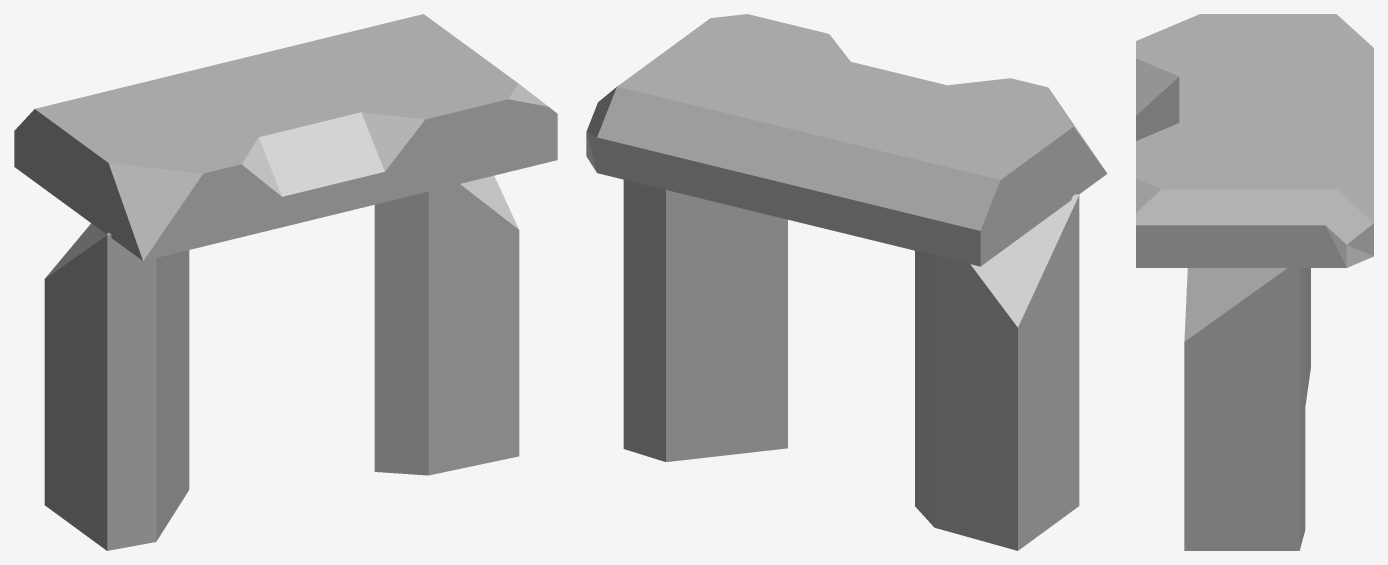
File: stone_1.fbx
The picture shows the model from 3 angles, left to right: view 1: azimuth 30°, elevation 25°; view 2: azimuth 150°, elevation 25°; view 3: azimuth 270°, elevation 25°; orthographic projection. The views are drawn at different scales.
Parts seen in each view (by area): view 1: stone_1; view 2: stone_1; view 3: stone_1.
Boxes of the visible parts, x1,y1,x2,y2 form: stone_1: (14,14,557,550); stone_1: (586,14,1107,550); stone_1: (1136,14,1373,550).
Size of the model in its own units: 334 by 295 by 178.
